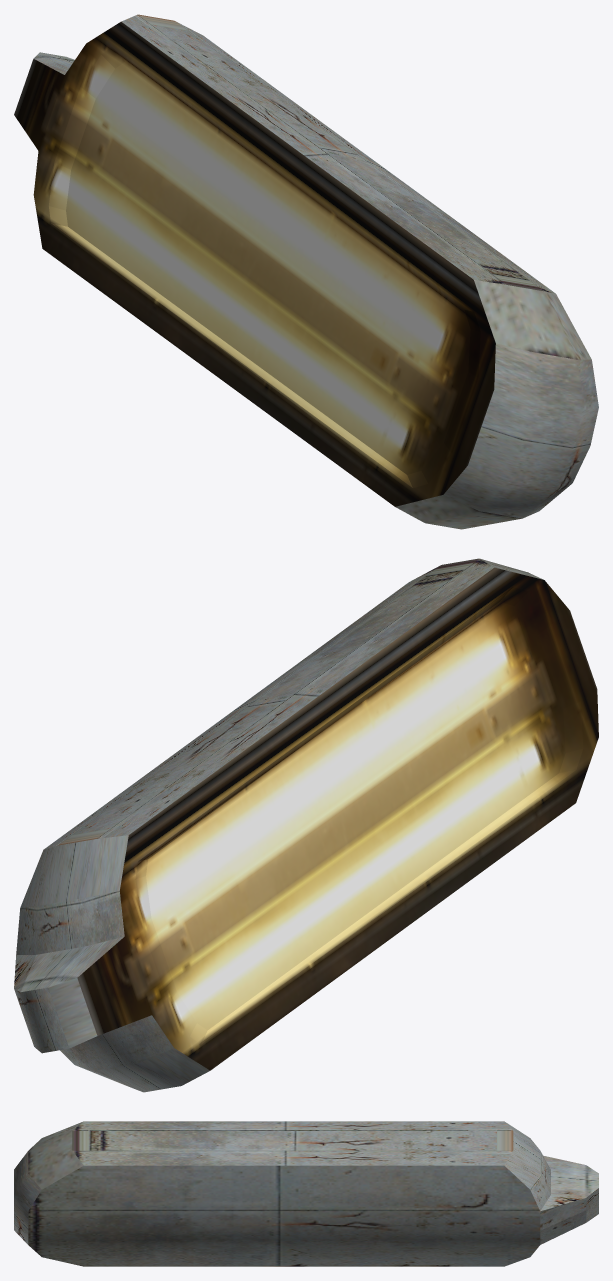
Rendered from roadlight B.FBX.
3 renders of one model, top to bottom at view 1: azimuth 30°, elevation 25°; view 2: azimuth 150°, elevation 25°; view 3: azimuth 270°, elevation 25°, orthographic. The views are drawn at different scales.
Visible parts, largest first — view 1: Box001; view 2: Box001; view 3: Box001.
Part boxes in pixels (x1,y1,x2,y2): Box001: (14,14,598,529); Box001: (14,558,598,1092); Box001: (14,1121,598,1266).
Bounding box in the file's own units: 5.29 × 7.58 × 27.83.
